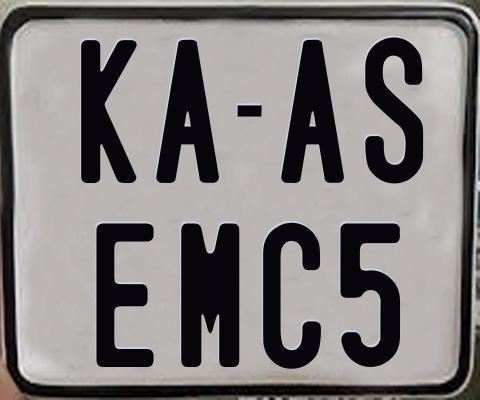5: (339, 221, 402, 368)
A: (281, 40, 349, 186), (155, 40, 221, 185)
C: (261, 220, 321, 369)
E: (94, 221, 155, 365)
K: (81, 40, 143, 189)
M: (179, 223, 239, 372)
S: (362, 35, 424, 188)
